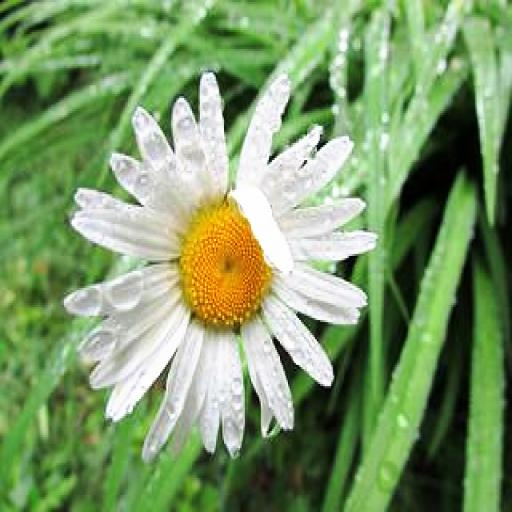daisy: (82, 104, 355, 431)
